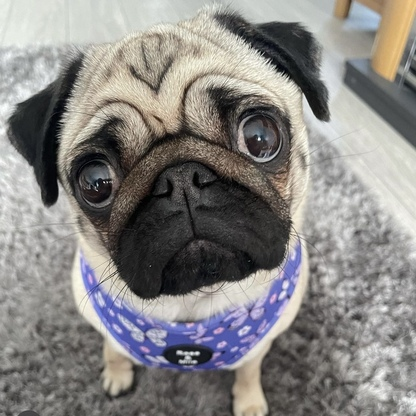Pug: (3, 1, 335, 416)
